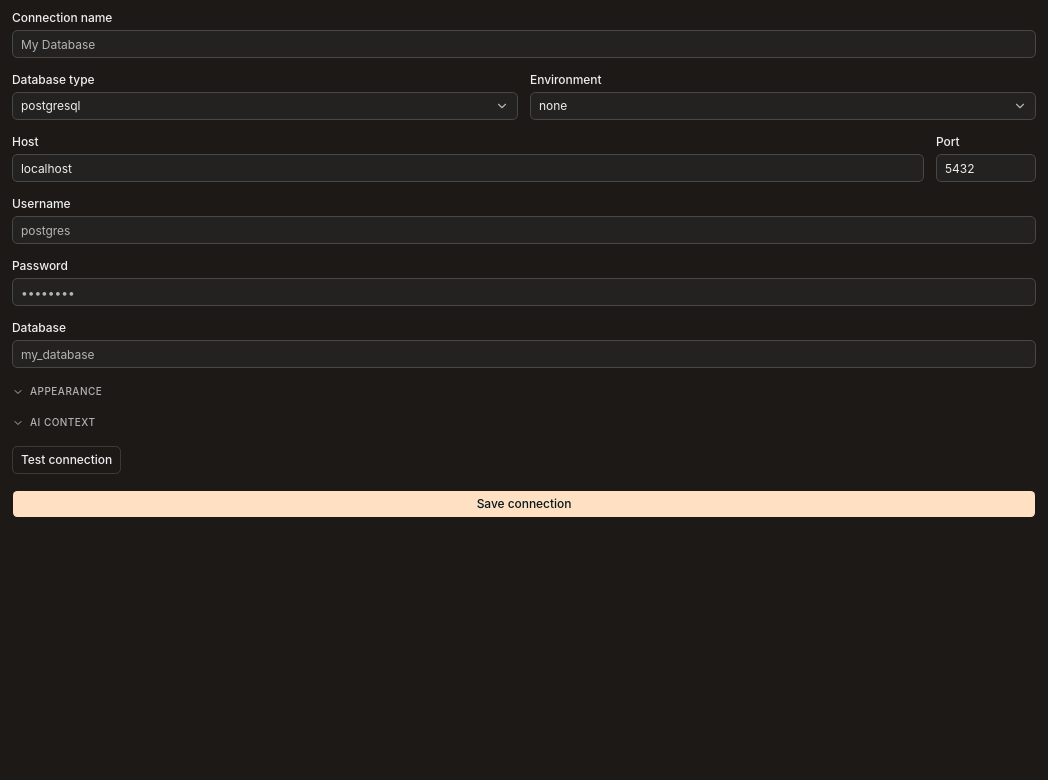
Scenario: connectionForm AI context section › auto-enables PII redaction when env switches to prod
This screenshot has width=1048, height=780.
Click the button "AI context". click: [63, 422]
box: top-left (12, 415), bottom-right (1036, 430)
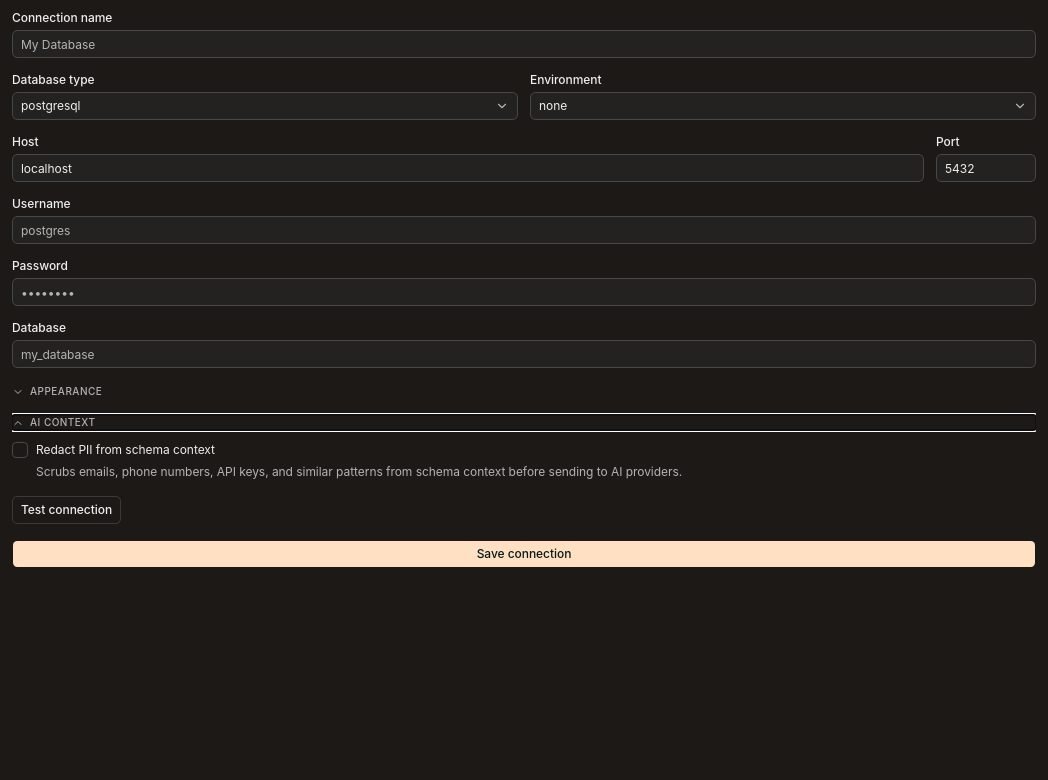
Click the dropdown named "Environment". click: [553, 106]
box: top-left (530, 92), bottom-right (1036, 120)
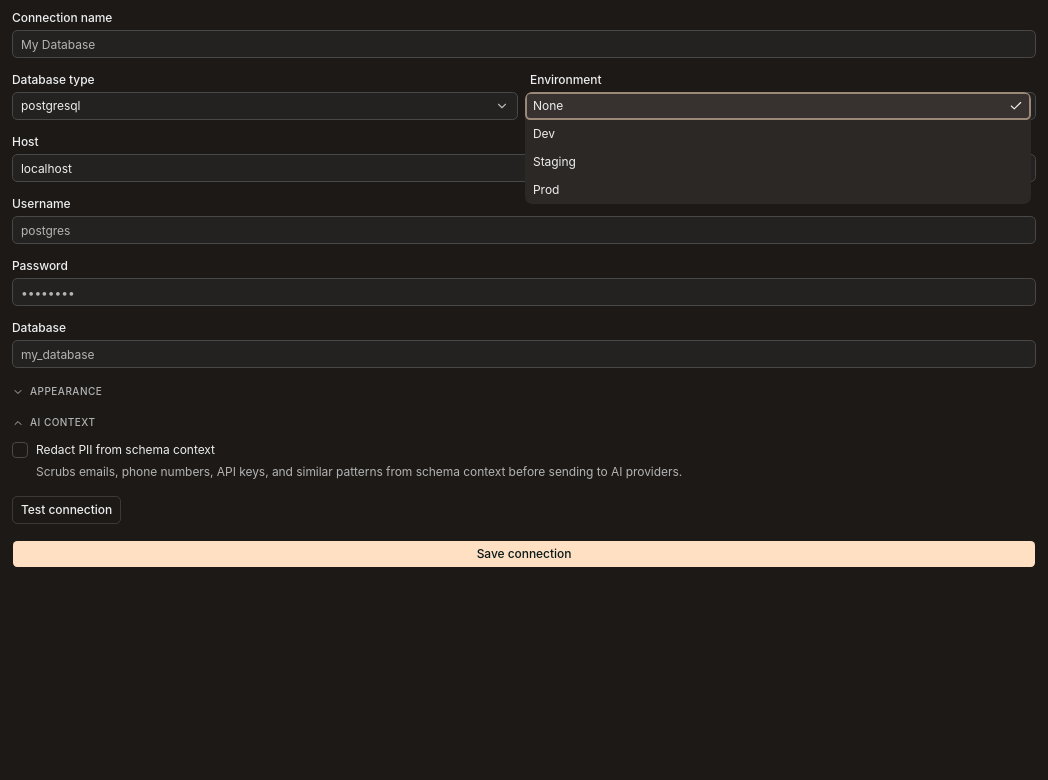
Click the option "Prod". click: [546, 190]
box: top-left (533, 182), bottom-right (559, 197)
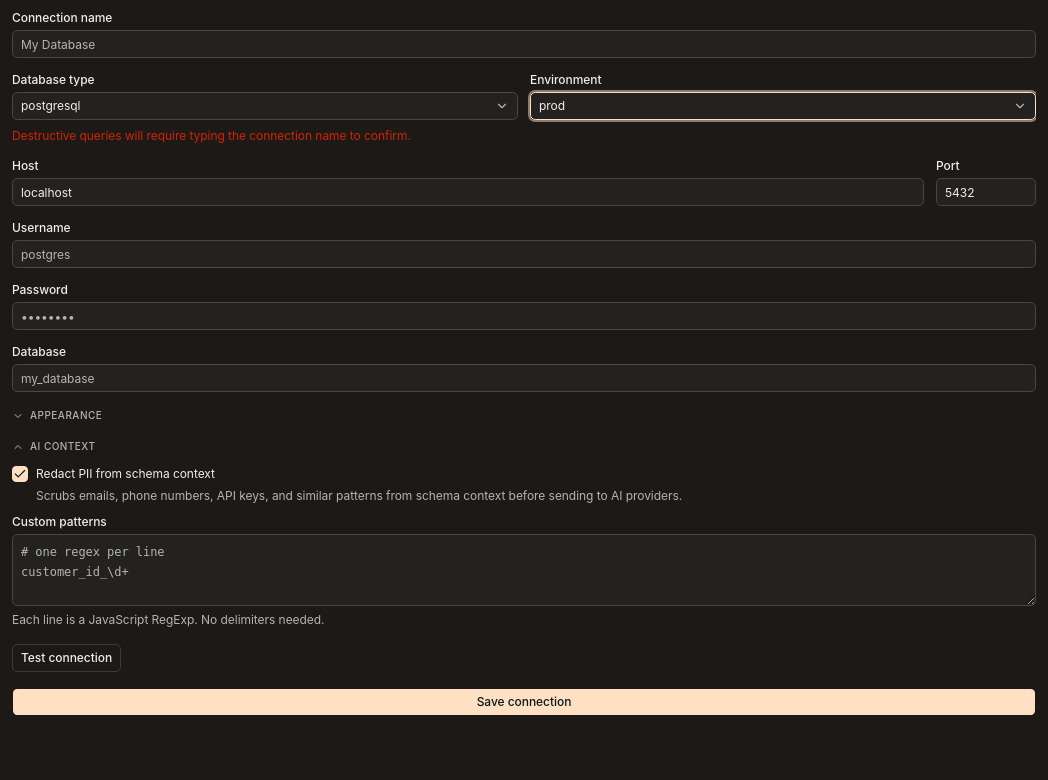
Check: the text box labelled "Custom patterns" is shown, box top-left (12, 534), bottom-right (1036, 606)
